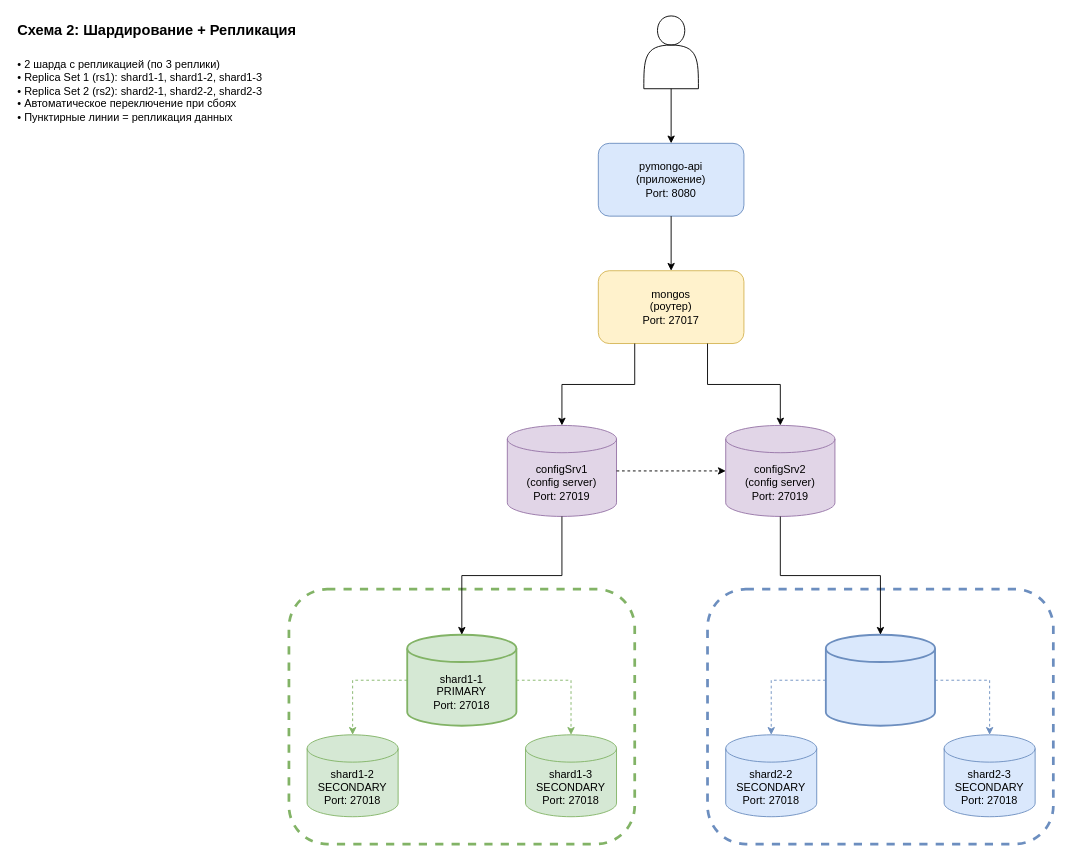
The diagram is 1070 pixels wide and 861 high, and some of its shapes have lost their labels. Here are the shapes that lost their labels. From the top down, the box of each, then its label:
(643, 15, 698, 89): Клиенты
(824, 633, 935, 726): shard2-1 PRIMARY Port: 27018
(287, 587, 636, 845): Replica Set 1 (rs1)
(706, 587, 1054, 845): Replica Set 2 (rs2)
